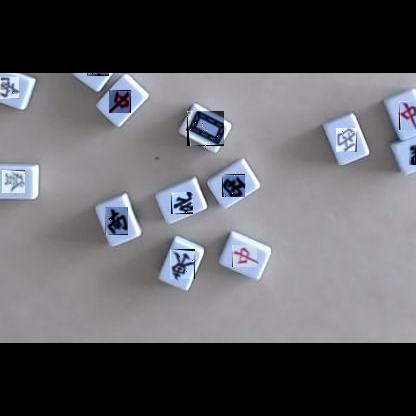1z: (170, 249, 195, 279)
2z: (105, 207, 128, 235), (0, 77, 19, 99)
3z: (222, 174, 245, 197), (336, 128, 357, 152)
4z: (171, 192, 193, 214), (409, 144, 416, 165)
5z: (187, 111, 224, 146)
6z: (2, 170, 25, 193), (87, 73, 109, 76)
7z: (232, 245, 257, 267), (109, 90, 131, 113), (399, 101, 416, 130)
